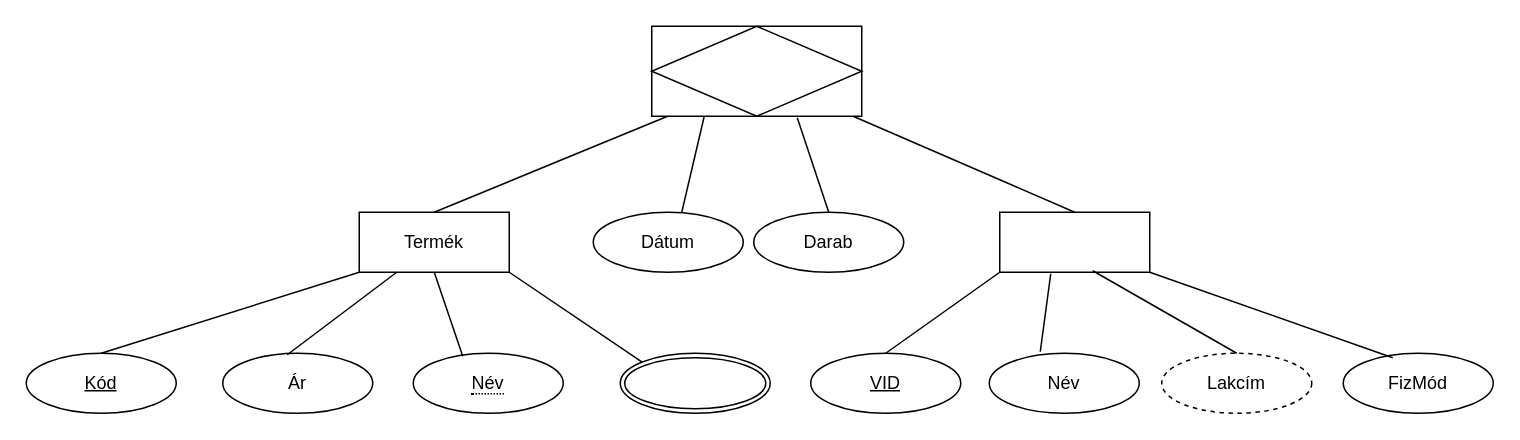
Image size: 1520x440. Some labels were removed from this diagram. The box of each missing label's shape, as (x1, y1, x2, y2) in pixels:
Méret: (619, 352, 770, 413)
Vásárlás: (650, 25, 862, 116)
Vásárló: (998, 211, 1150, 272)
